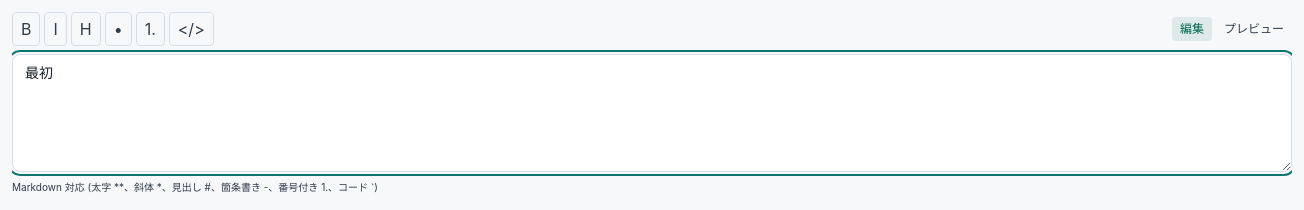
Test: MarkdownEditor › 番号付きボタンは行頭に '1. ' を付与する
Click the button named "番号付きリスト".
click(150, 29)  # box [136, 12, 165, 46]
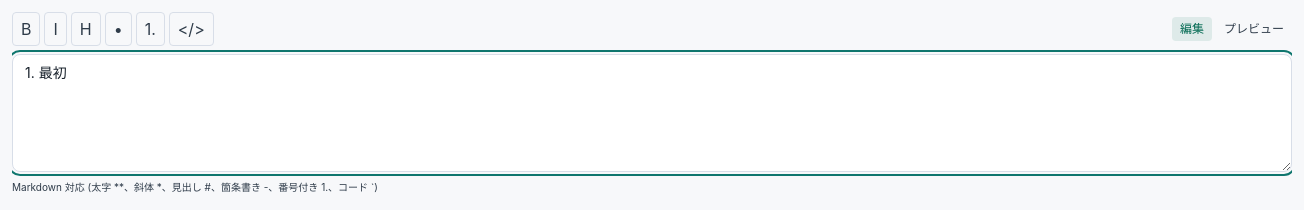
Expected: the text box named "本文" holds "1. 最初", [12, 54, 1292, 172]
